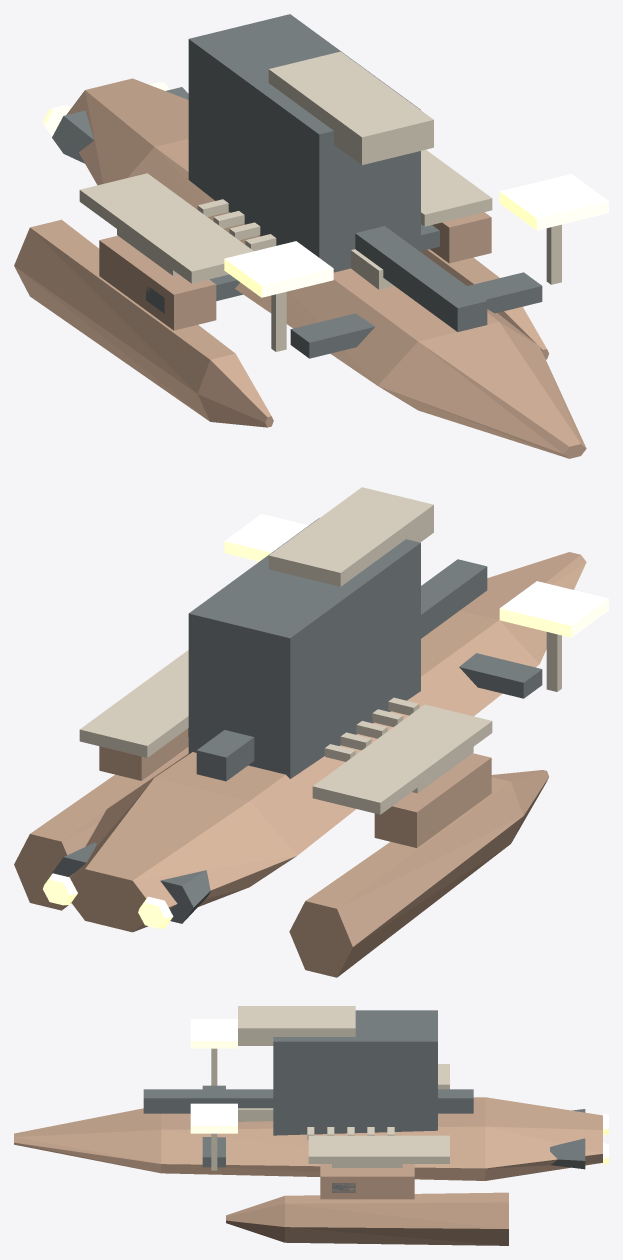
3 renders of one model, top to bottom at view 1: azimuth 30°, elevation 25°; view 2: azimuth 150°, elevation 25°; view 3: azimuth 270°, elevation 25°, orthographic. The views are drawn at different scales.
Bounding box in the file's own units: 3.87 × 3.06 × 9.09.
